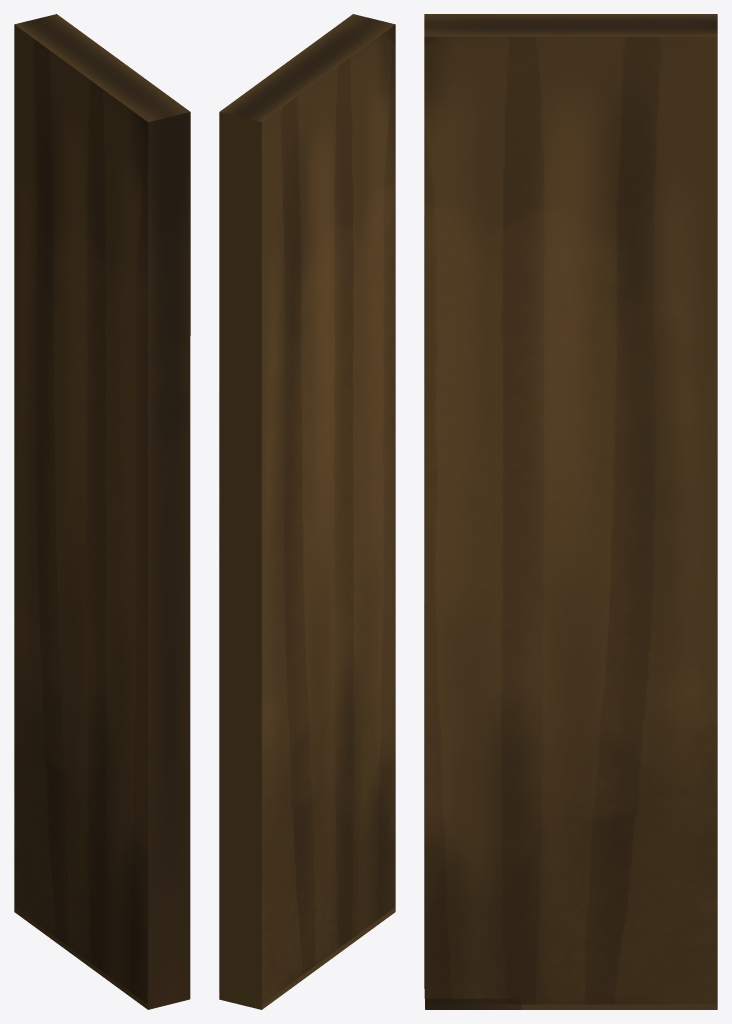
Rendered from puertaDesliz2.obj.
3 renders of one model, left to right at view 1: azimuth 30°, elevation 25°; view 2: azimuth 150°, elevation 25°; view 3: azimuth 270°, elevation 25°, orthographic. The views are drawn at different scales.
Parts seen in each view (by area): view 1: Cube.004; view 2: Cube.004; view 3: Cube.004.
Boxes of the visible parts, bbox=[...] form: Cube.004: bbox=[14, 14, 190, 1009]; Cube.004: bbox=[219, 14, 395, 1009]; Cube.004: bbox=[424, 14, 717, 1009].
Size of the model in its own units: 0.4393 by 8.78 by 2.4.
